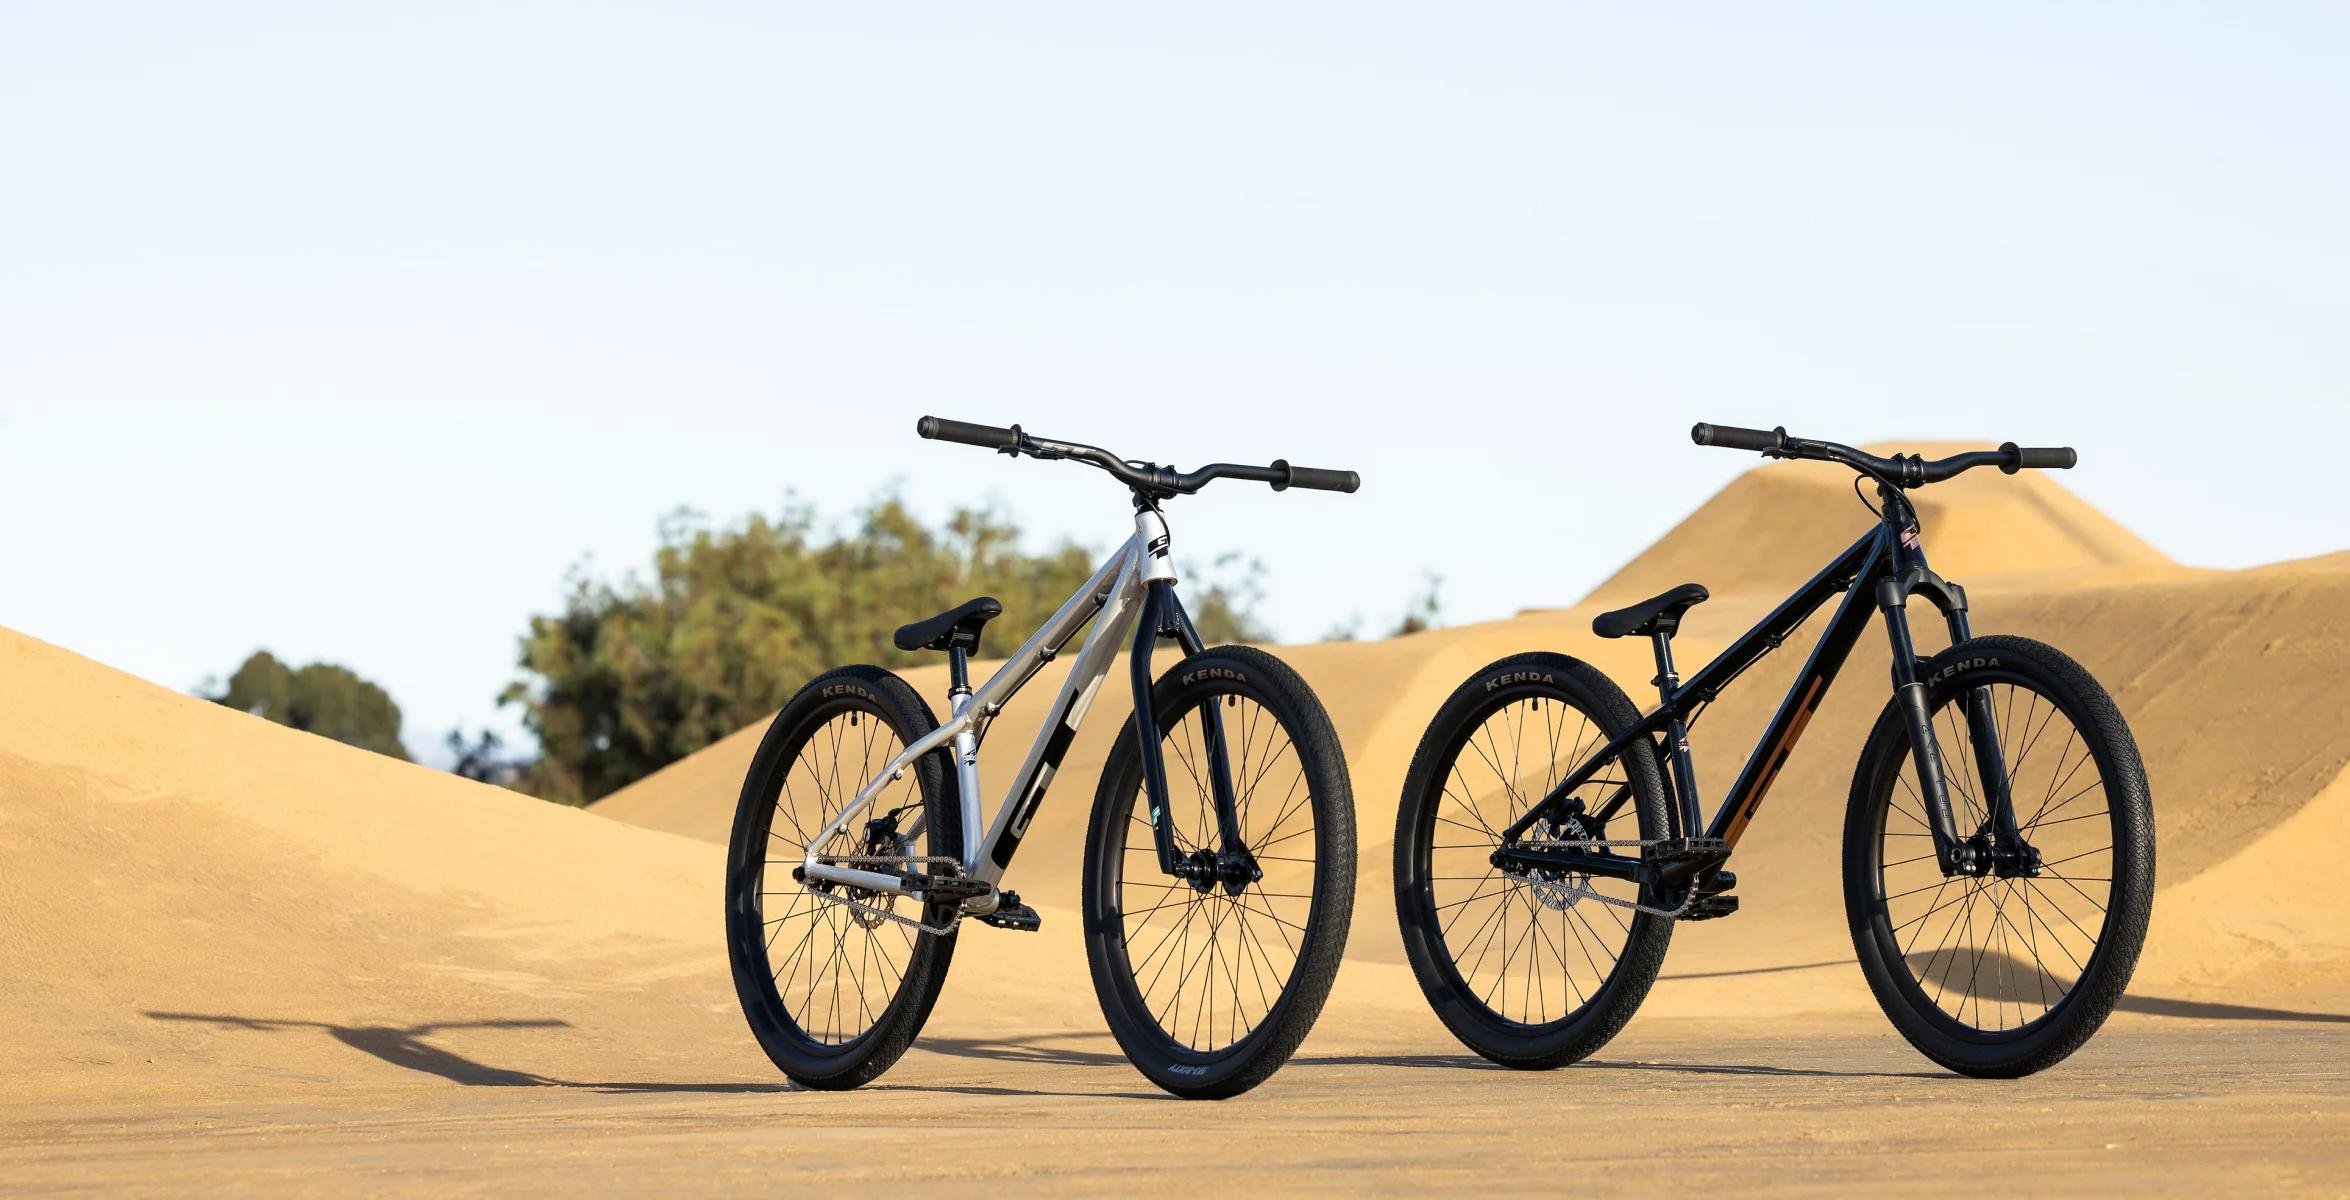bicycle: (1391, 403, 2166, 1091), (722, 412, 1368, 1104)
